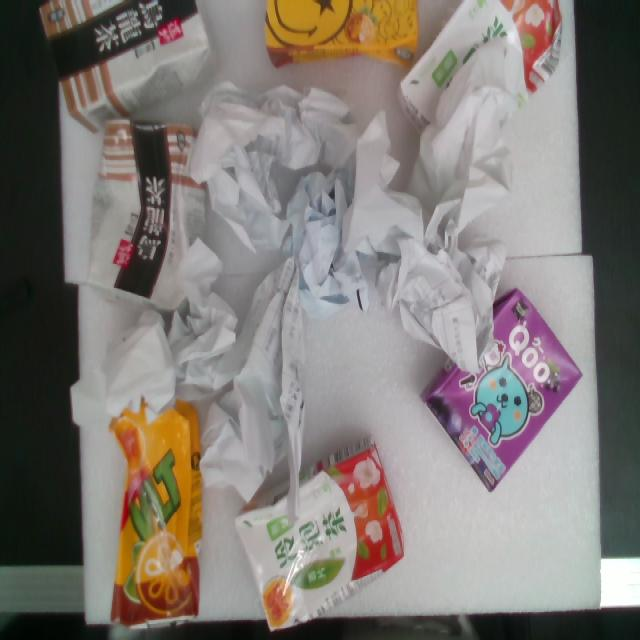juicebox: (387, 267, 640, 536), (197, 418, 444, 640), (370, 0, 601, 175), (83, 387, 217, 640), (75, 89, 215, 330), (248, 1, 436, 96)
paper: (179, 43, 385, 272), (184, 233, 328, 501), (405, 10, 527, 298), (22, 298, 204, 489), (361, 204, 542, 381), (110, 222, 268, 423), (303, 83, 447, 281), (272, 137, 365, 336)
